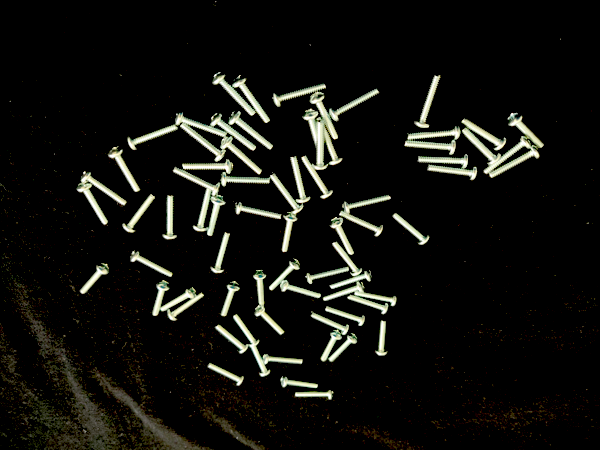longscrew: (211, 69, 257, 118), (231, 74, 272, 124), (483, 134, 532, 175), (328, 86, 382, 123), (228, 110, 276, 151), (210, 111, 257, 152), (180, 123, 228, 163), (80, 168, 127, 207), (489, 145, 541, 179), (461, 115, 508, 152), (220, 136, 264, 175), (413, 74, 443, 130), (108, 146, 143, 193), (461, 126, 502, 166), (172, 166, 223, 198), (174, 109, 227, 139), (272, 81, 328, 109), (506, 111, 547, 149), (269, 172, 305, 215), (300, 155, 334, 200), (309, 91, 340, 140), (76, 181, 109, 225), (122, 193, 158, 233), (126, 124, 179, 151), (316, 117, 344, 167), (391, 211, 431, 246), (130, 248, 173, 278), (331, 240, 364, 278), (166, 291, 206, 322), (340, 210, 384, 238), (214, 322, 250, 355), (269, 258, 302, 292), (328, 216, 356, 256), (342, 193, 392, 215), (290, 155, 312, 204), (79, 262, 111, 295), (235, 199, 283, 221), (309, 311, 351, 336), (232, 312, 261, 348), (192, 186, 214, 233), (347, 292, 390, 316), (406, 123, 462, 141), (206, 361, 244, 387), (159, 287, 197, 313), (210, 232, 233, 274), (328, 333, 359, 364), (254, 305, 285, 336), (182, 157, 235, 175), (330, 268, 373, 290), (325, 305, 366, 328), (302, 108, 323, 152), (416, 152, 470, 169), (323, 282, 366, 303), (206, 194, 227, 237), (404, 139, 457, 156), (220, 171, 271, 188), (311, 120, 328, 171), (280, 279, 323, 299), (305, 266, 350, 285), (162, 193, 180, 240), (427, 165, 479, 181), (281, 211, 300, 253), (249, 345, 272, 378), (220, 281, 241, 317), (321, 330, 343, 363), (354, 291, 398, 307), (152, 280, 171, 317), (375, 318, 390, 358), (280, 375, 319, 390), (263, 352, 304, 366), (252, 269, 267, 306), (295, 388, 335, 401)
